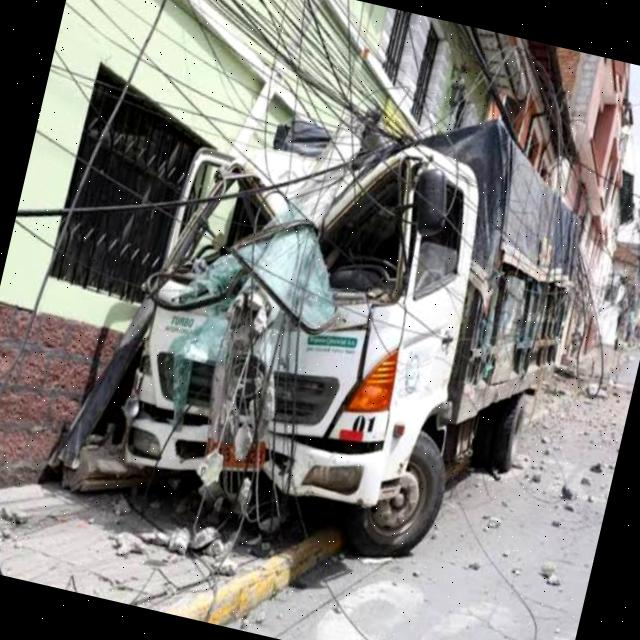Broken Pole: (48, 166, 233, 494)
